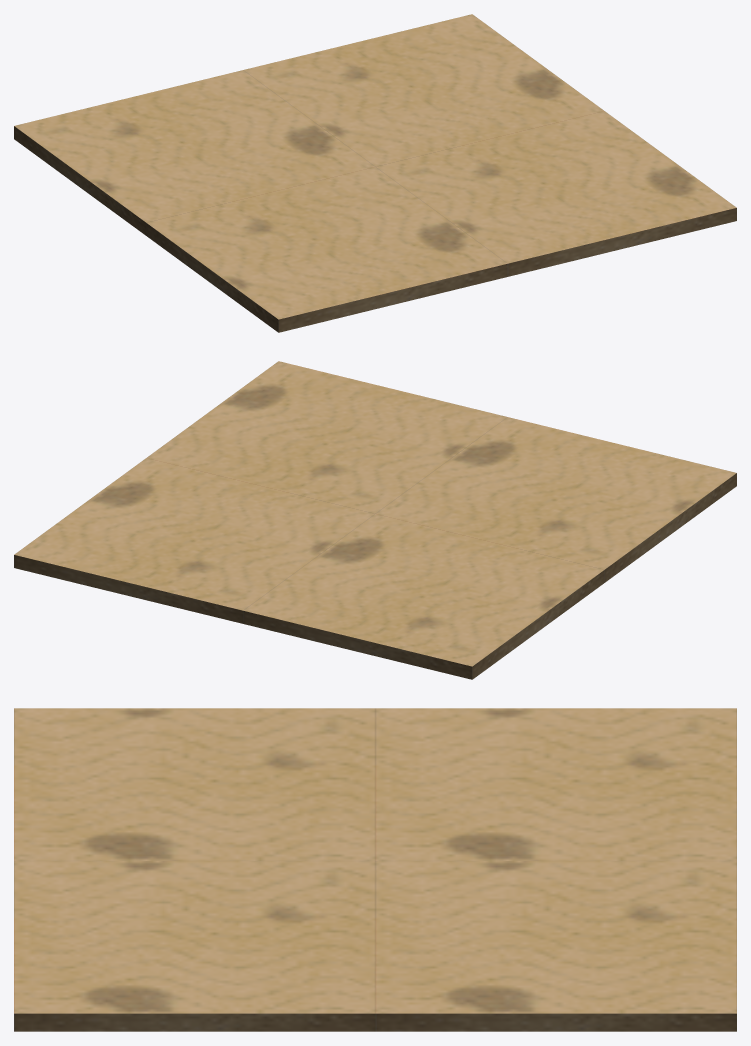
Rendered from ground_sawdust.fbx.
3 renders of one model, top to bottom at view 1: azimuth 30°, elevation 25°; view 2: azimuth 150°, elevation 25°; view 3: azimuth 270°, elevation 25°, orthographic. The views are drawn at different scales.
Visible parts, largest first — view 1: ground_sawdust; view 2: ground_sawdust; view 3: ground_sawdust.
Part boxes in pixels (bbox=[...]): ground_sawdust: bbox=[14, 14, 736, 332]; ground_sawdust: bbox=[14, 361, 736, 679]; ground_sawdust: bbox=[14, 708, 736, 1031].
Bounding box in the file's own units: 4 × 0.11 × 4.
1 material, 1 textured.
